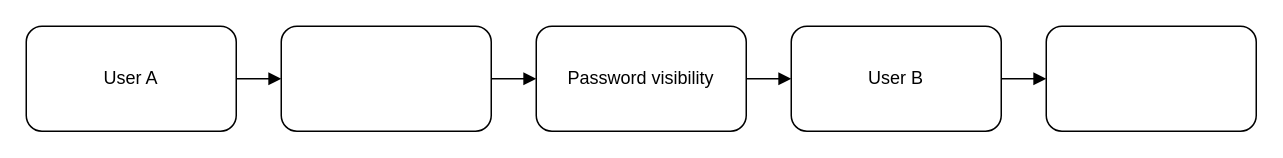
The diagram is 1283 pixels wide and 158 high, and some of its shapes have lost their labels. The centre of each missing label's shape, as x and y in pixels:
Check-in/expiry: point (1150, 78)
Checkout lease: point (385, 78)
